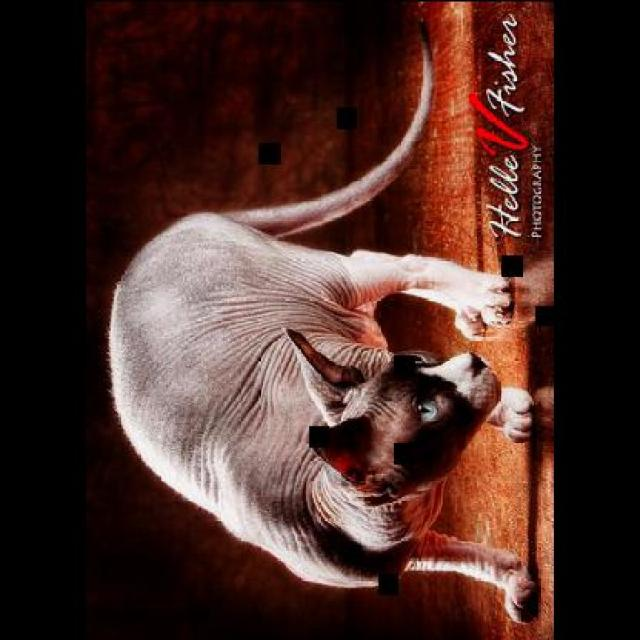unauthorized: (105, 21, 540, 624)
